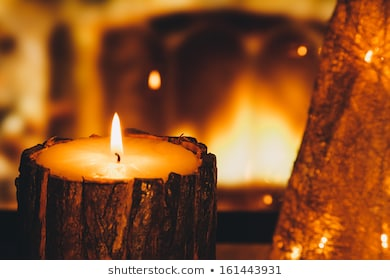Fire: (108, 112, 127, 158)
